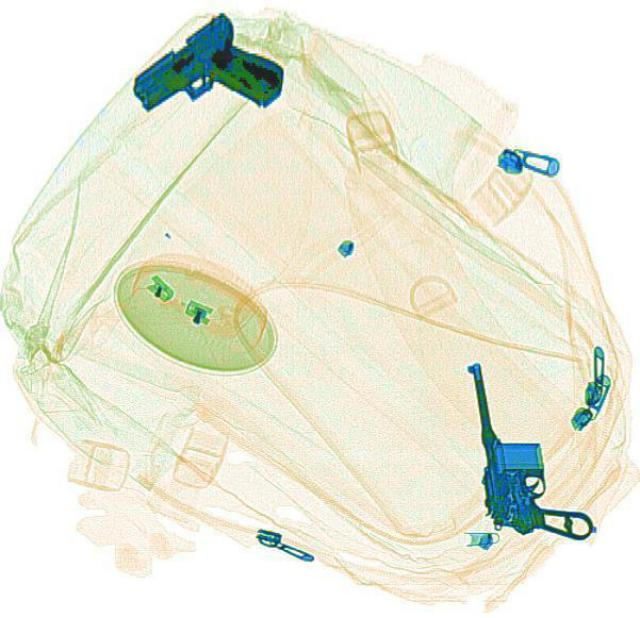Gun: (118, 5, 294, 156), (462, 348, 594, 545)
